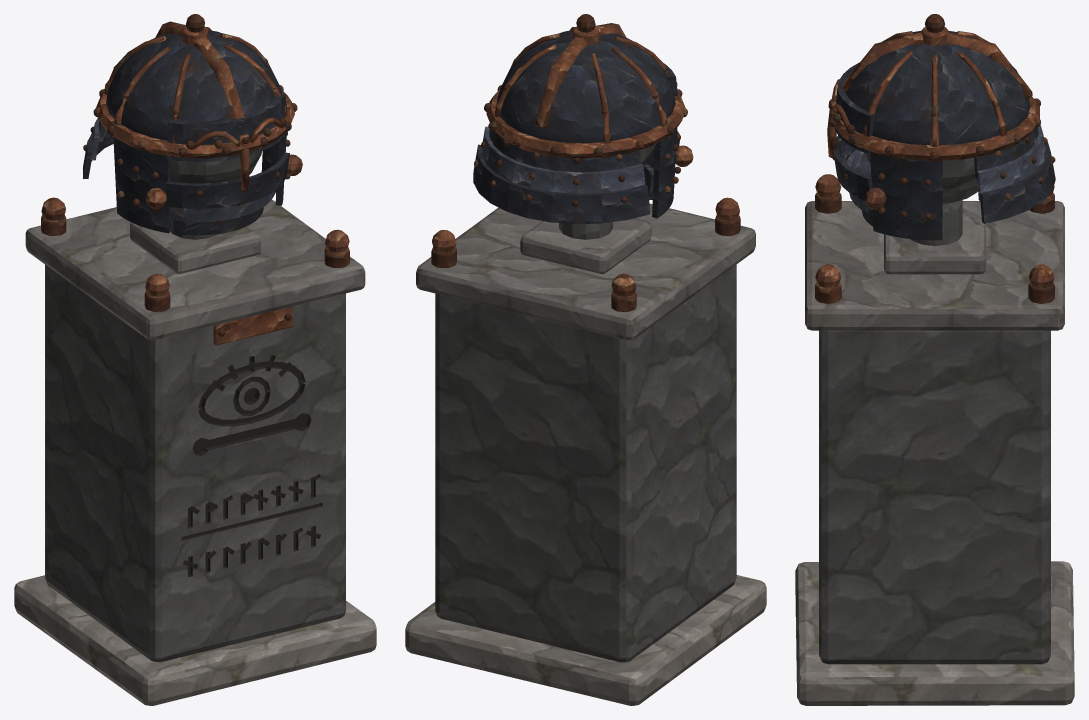
File: vo_jawhelm_stand.glb
The picture shows the model from 3 angles, left to right: view 1: azimuth 30°, elevation 25°; view 2: azimuth 150°, elevation 25°; view 3: azimuth 270°, elevation 25°; orthographic projection. The views are drawn at different scales.
Parts seen in each view (by area): view 1: model; view 2: model; view 3: model.
Boxes of the visible parts, bbox=[...] form: model: bbox=[14, 14, 376, 705]; model: bbox=[405, 14, 766, 705]; model: bbox=[795, 14, 1074, 705].
Bounding box in the file's own units: 0.6032 × 1.51 × 0.6019.
8 materials, 7 textured.
